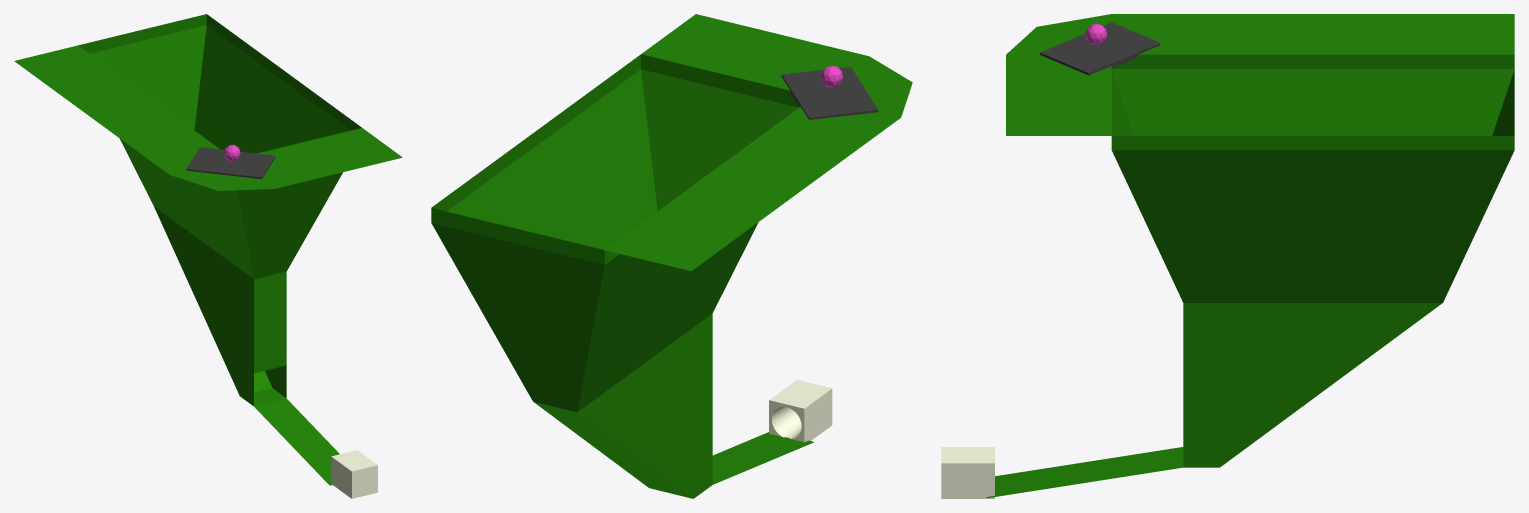
The model's file is boilerplate_level_8.glb.
3 renders of one model, left to right at view 1: azimuth 30°, elevation 25°; view 2: azimuth 150°, elevation 25°; view 3: azimuth 270°, elevation 25°, orthographic. The views are drawn at different scales.
Visible parts, largest first — view 1: Plane, Start, Cup; view 2: Plane, Cup, Start; view 3: Plane, Start, Cup.
Part boxes in pixels (left/top/right/bottom): Plane: left=14, top=14, right=402, bottom=485; Start: left=186, top=147, right=275, bottom=179; Cup: left=331, top=450, right=377, bottom=498; Plane: left=431, top=14, right=912, bottom=498; Cup: left=769, top=379, right=832, bottom=442; Start: left=781, top=66, right=878, bottom=119; Plane: left=986, top=14, right=1514, bottom=498; Start: left=1040, top=22, right=1160, bottom=75; Cup: left=941, top=447, right=994, bottom=498.
Bounding box in the file's own units: 22.43 × 36.06 × 44.58.
